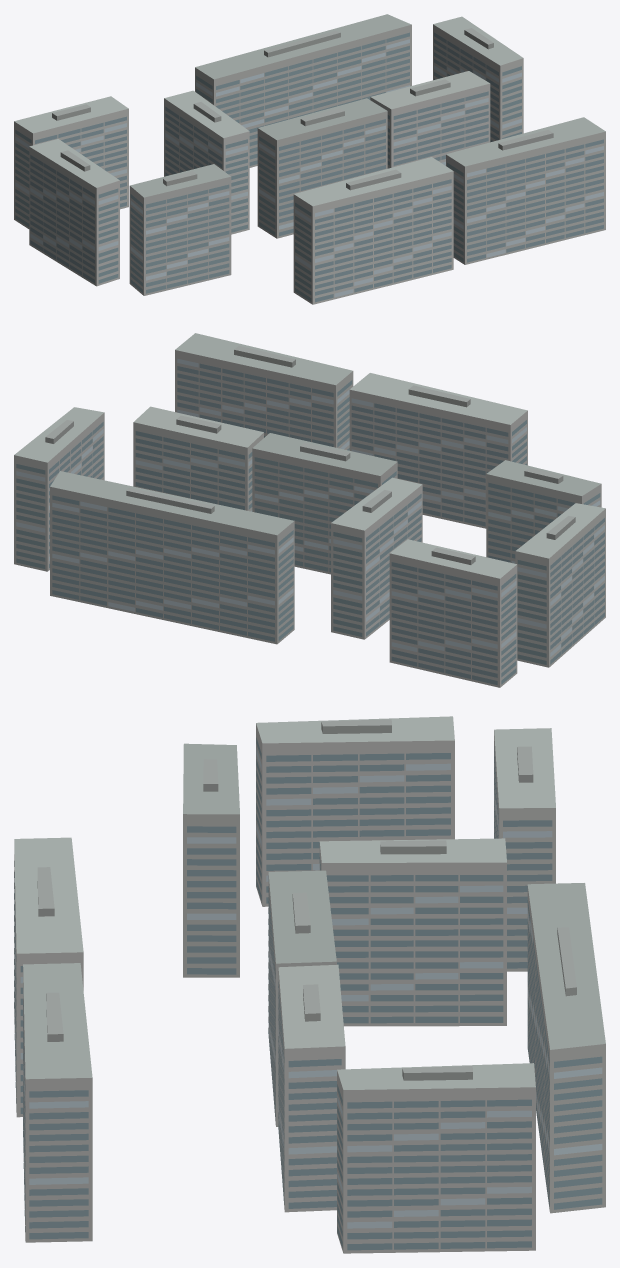
File: apt-a13283611.glb
The picture shows the model from 3 angles, top to bottom: view 1: azimuth 30°, elevation 25°; view 2: azimuth 150°, elevation 25°; view 3: azimuth 270°, elevation 25°; orthographic projection. The views are drawn at different scales.
Visible parts, largest first — view 1: apt-a13283611; view 2: apt-a13283611; view 3: apt-a13283611.
Part boxes in pixels (x1,y1,x2,y2): apt-a13283611: [14, 14, 605, 304]; apt-a13283611: [14, 333, 605, 687]; apt-a13283611: [14, 716, 605, 1253].
Size of the model in its own units: 187 by 40 by 125.
